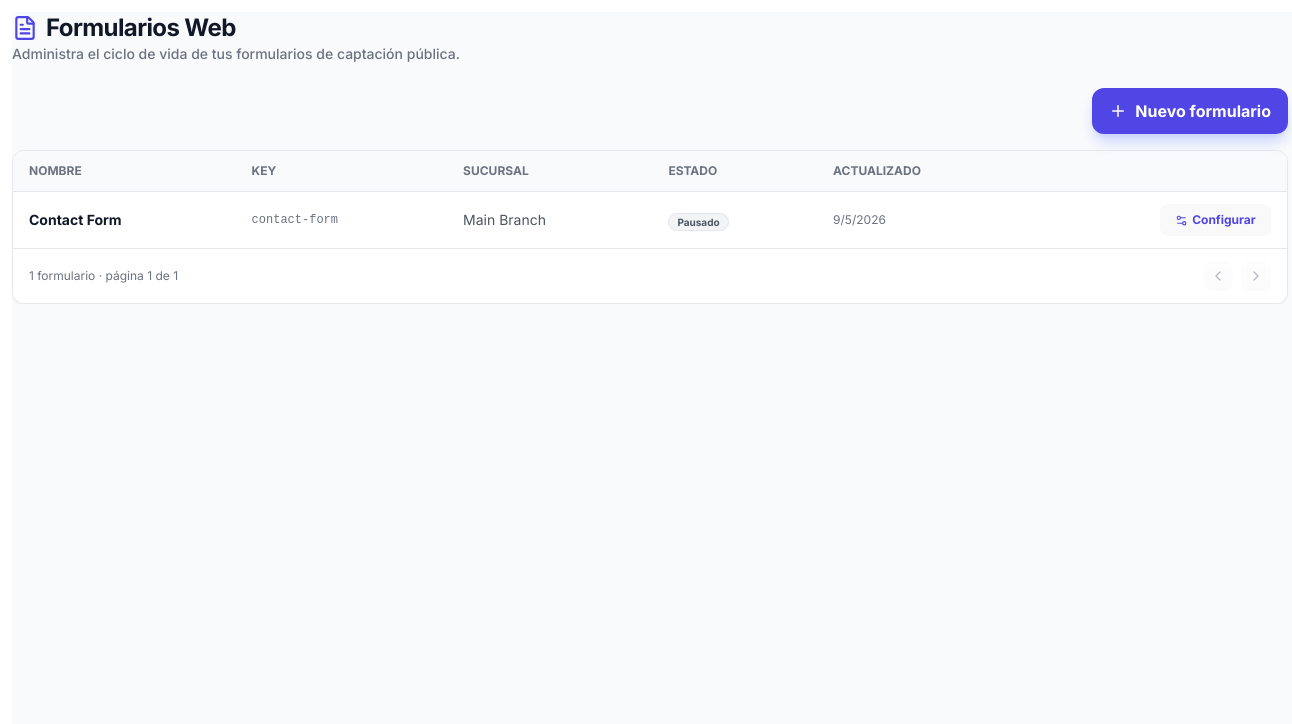
Test: PublicLeadForms — navigation to Configuración › clicking Configurar on a row navigates to the config shell without a page reload
The width and height of the screenshot is (1292, 724).
Click the button "Configurar" at coordinates (1215, 220), box [1160,204,1271,236]
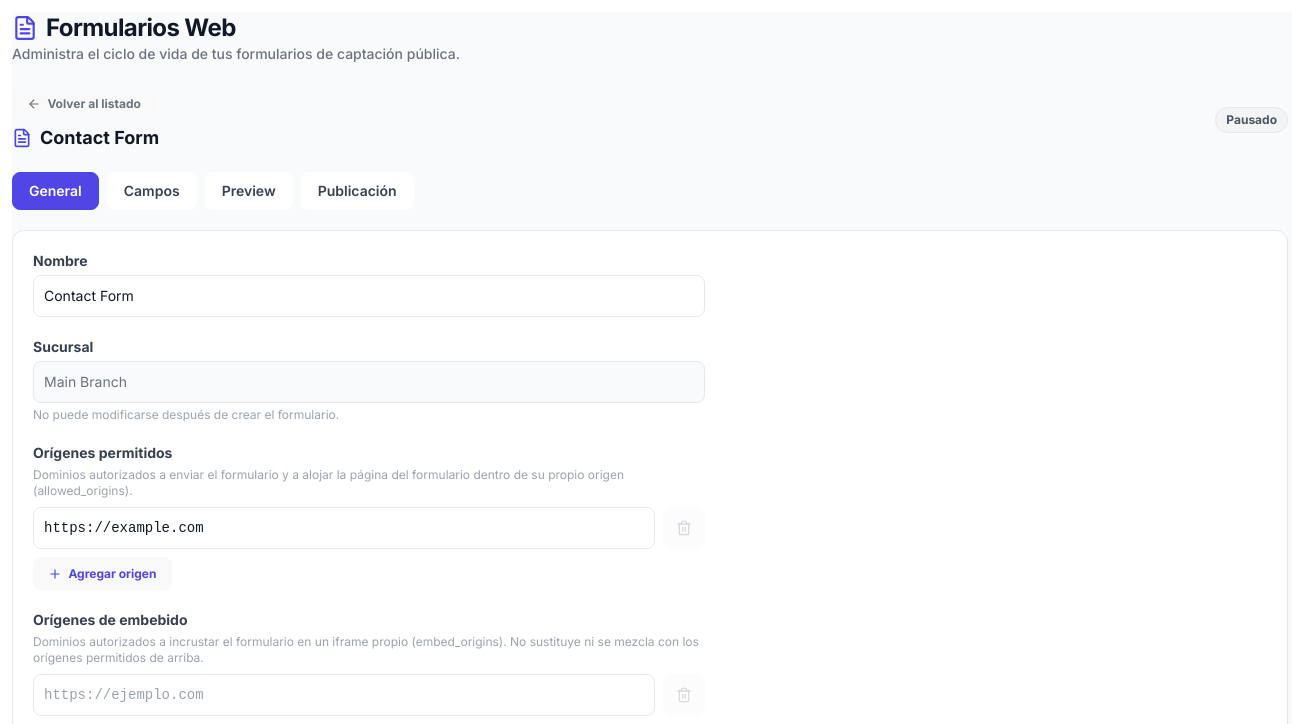
Check: the tab "General" is shown, box [12,172,99,210]
